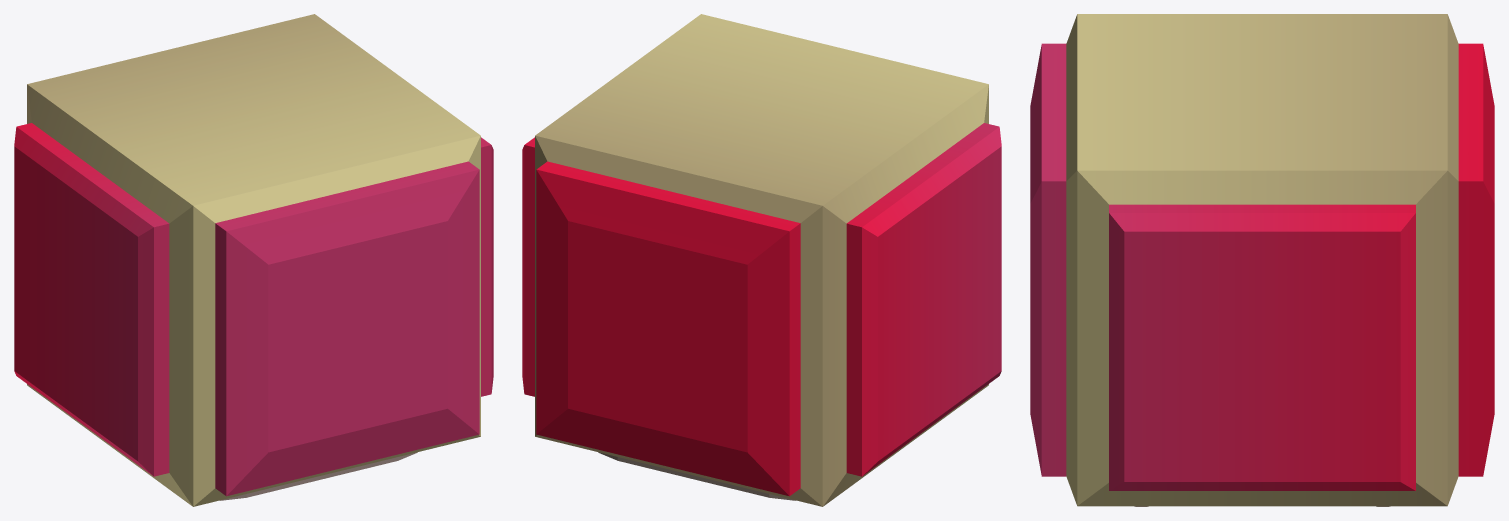
File: i-color.fbx
The picture shows the model from 3 angles, left to right: view 1: azimuth 30°, elevation 25°; view 2: azimuth 150°, elevation 25°; view 3: azimuth 270°, elevation 25°; orthographic projection. The views are drawn at different scales.
Visible parts, largest first — view 1: Cube; view 2: Cube; view 3: Cube.
Boxes of the visible parts, x1,y1,x2,y2 form: Cube: (14,14,493,506); Cube: (522,14,1001,506); Cube: (1030,14,1494,506).
Bounding box in the file's own units: 22.22 × 19.69 × 22.55.
